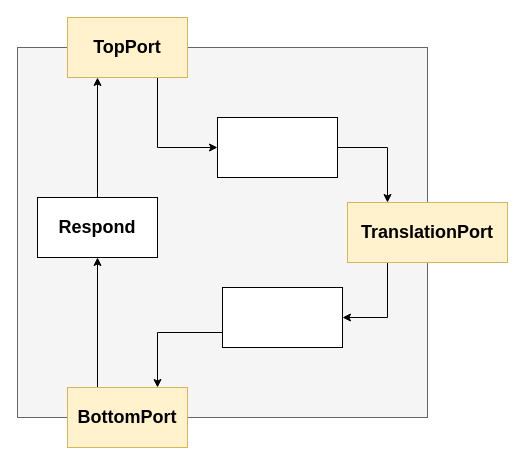
The diagram is 525 pixels wide and 465 high, and some of its shapes have lost their labels. The centre of each missing label's shape, as x and y in pixels:
Forward: (x=282, y=317)
Translate: (x=277, y=147)
